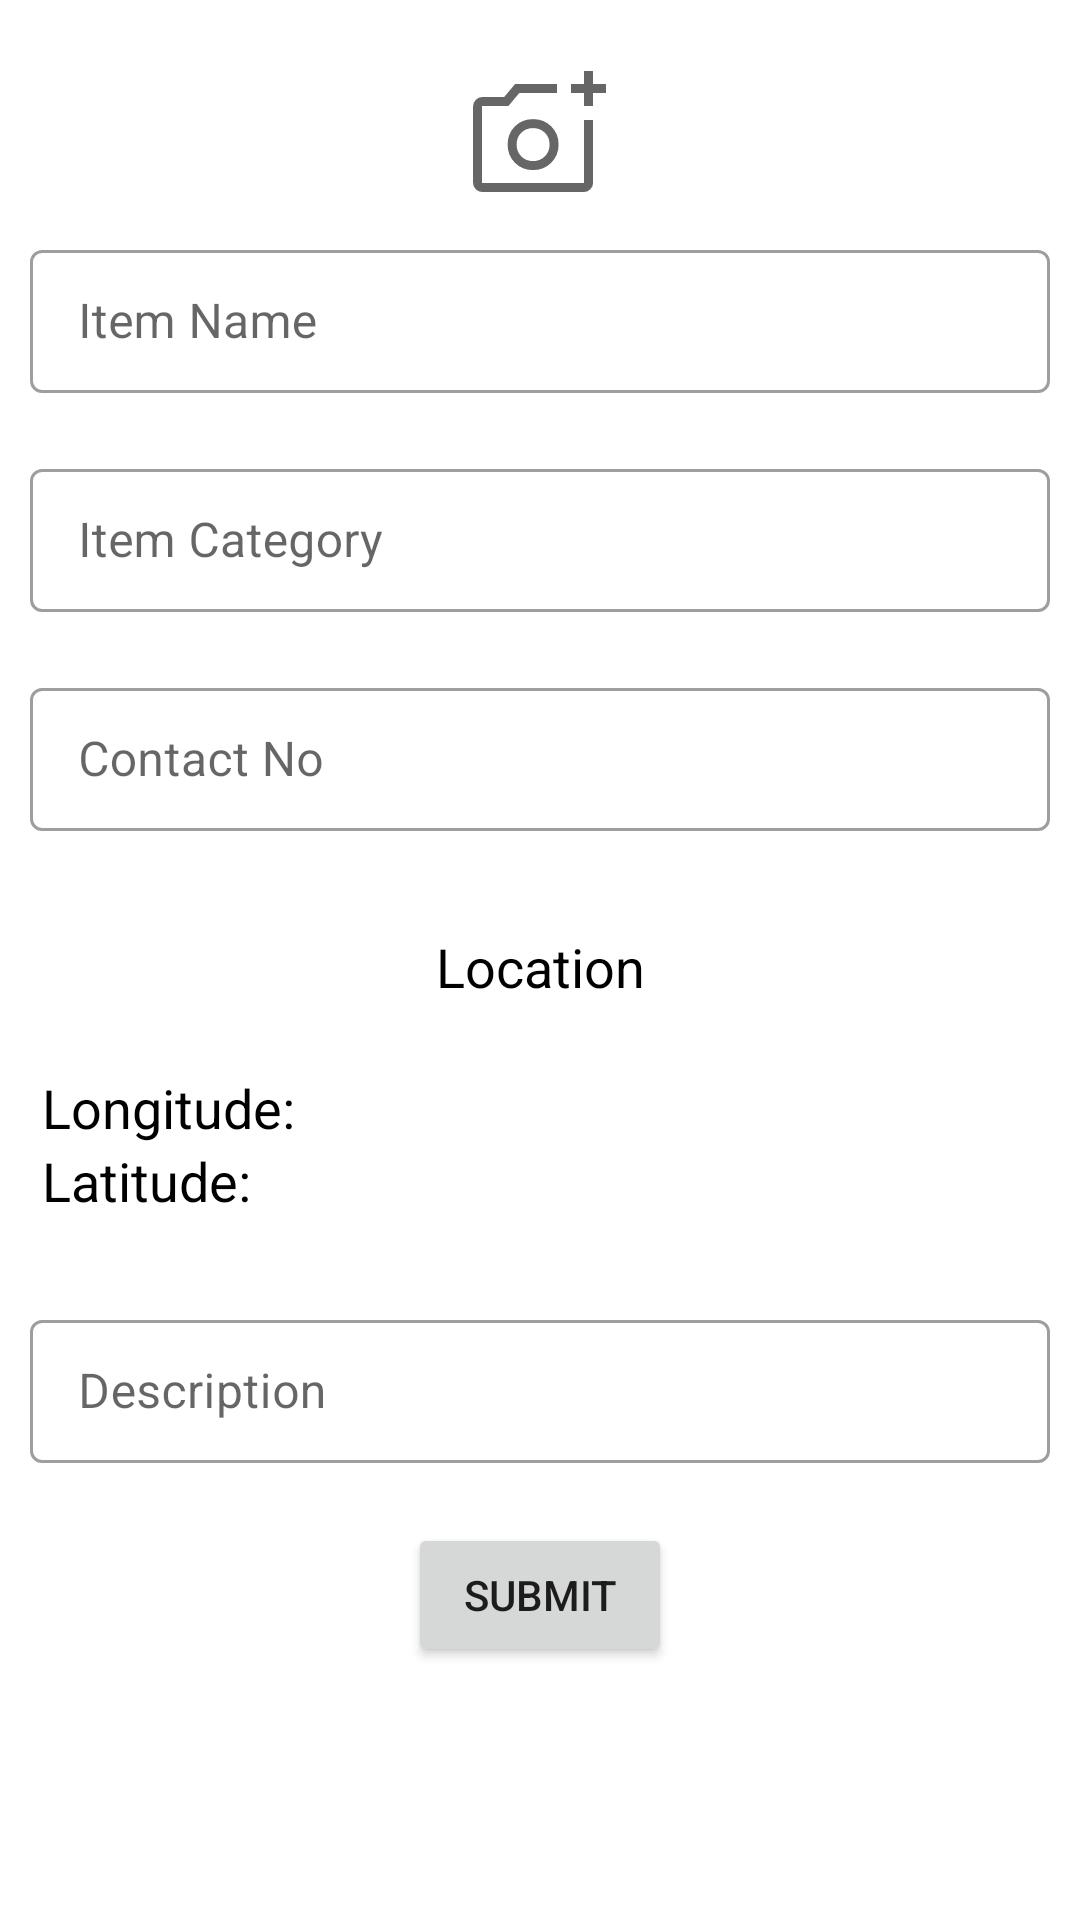

Where icons sit on this 1080w x 1920h app screen, as rect(x1, y1, x2, y2):
add: rect(473, 71, 606, 192)
